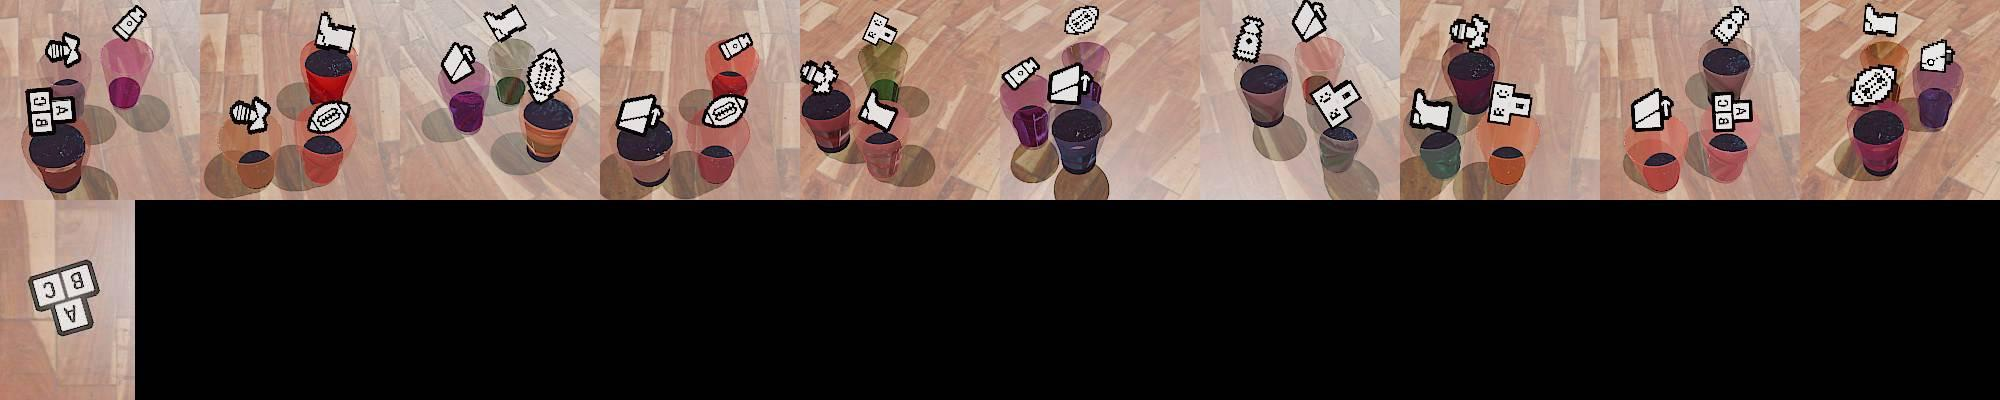icon: (27, 259, 101, 337), (1308, 75, 1362, 128), (25, 86, 75, 137), (526, 45, 566, 101), (1486, 79, 1534, 125), (857, 86, 901, 134), (1630, 87, 1676, 132), (1850, 64, 1898, 106), (1407, 87, 1452, 131), (616, 93, 662, 136), (1046, 62, 1090, 105), (1708, 90, 1752, 132), (483, 4, 528, 44), (315, 11, 357, 53), (229, 95, 273, 135), (306, 100, 353, 136), (440, 40, 477, 84), (1710, 5, 1749, 46), (1449, 14, 1491, 52), (1291, 0, 1328, 43), (702, 93, 748, 127), (800, 59, 841, 93), (1234, 15, 1264, 61), (112, 4, 148, 42), (1001, 56, 1040, 91), (863, 11, 900, 47), (44, 33, 81, 69), (1919, 39, 1954, 76), (1863, 3, 1899, 38), (1063, 4, 1099, 37), (718, 32, 754, 60)
